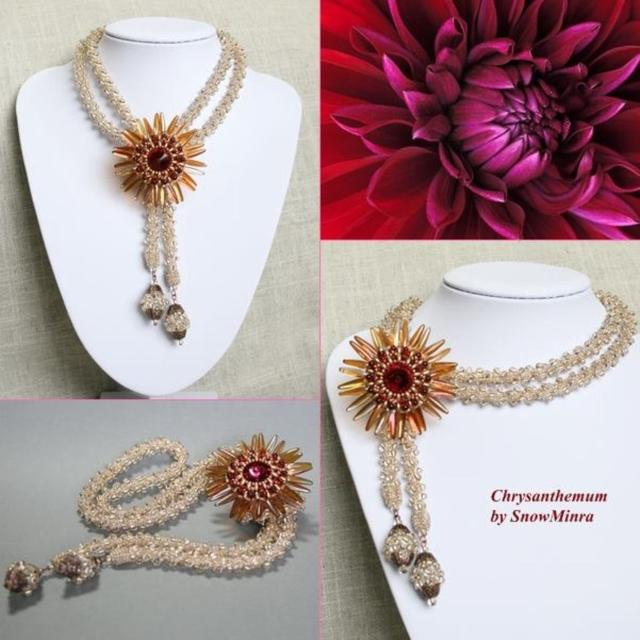Flower: (320, 0, 638, 242), (337, 314, 469, 446), (195, 429, 318, 529), (110, 104, 206, 212)
